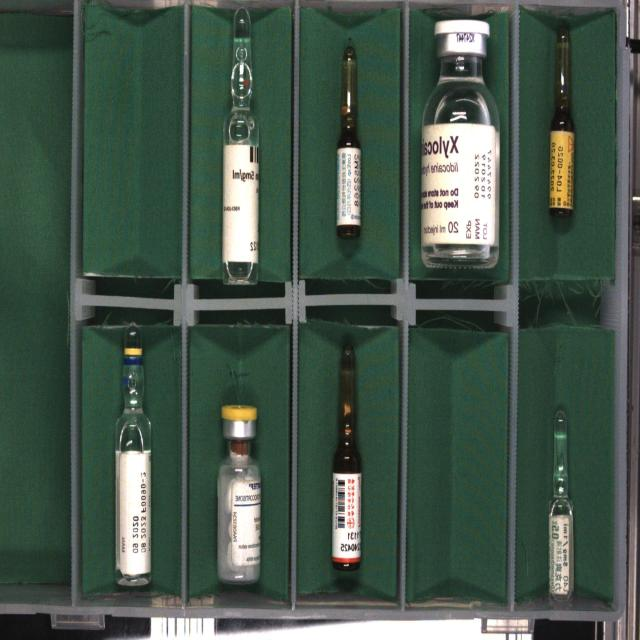Vials: (421, 20, 500, 268), (217, 405, 261, 583)
